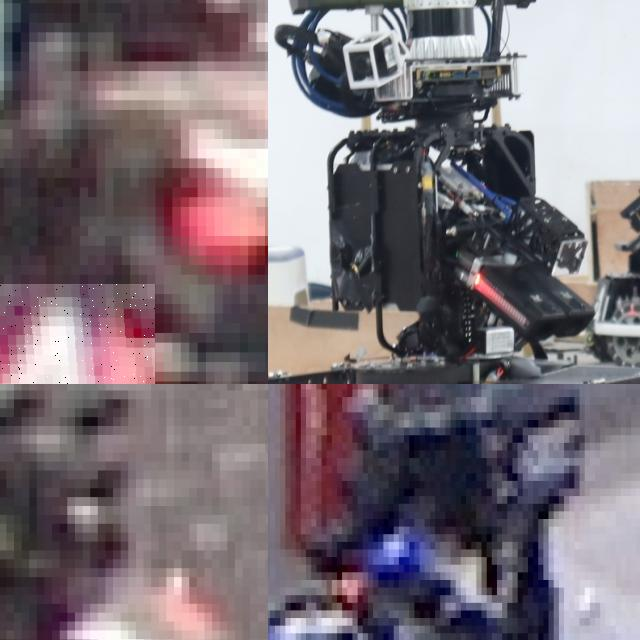B3: (268, 580, 352, 640)
R4: (0, 284, 155, 384)
